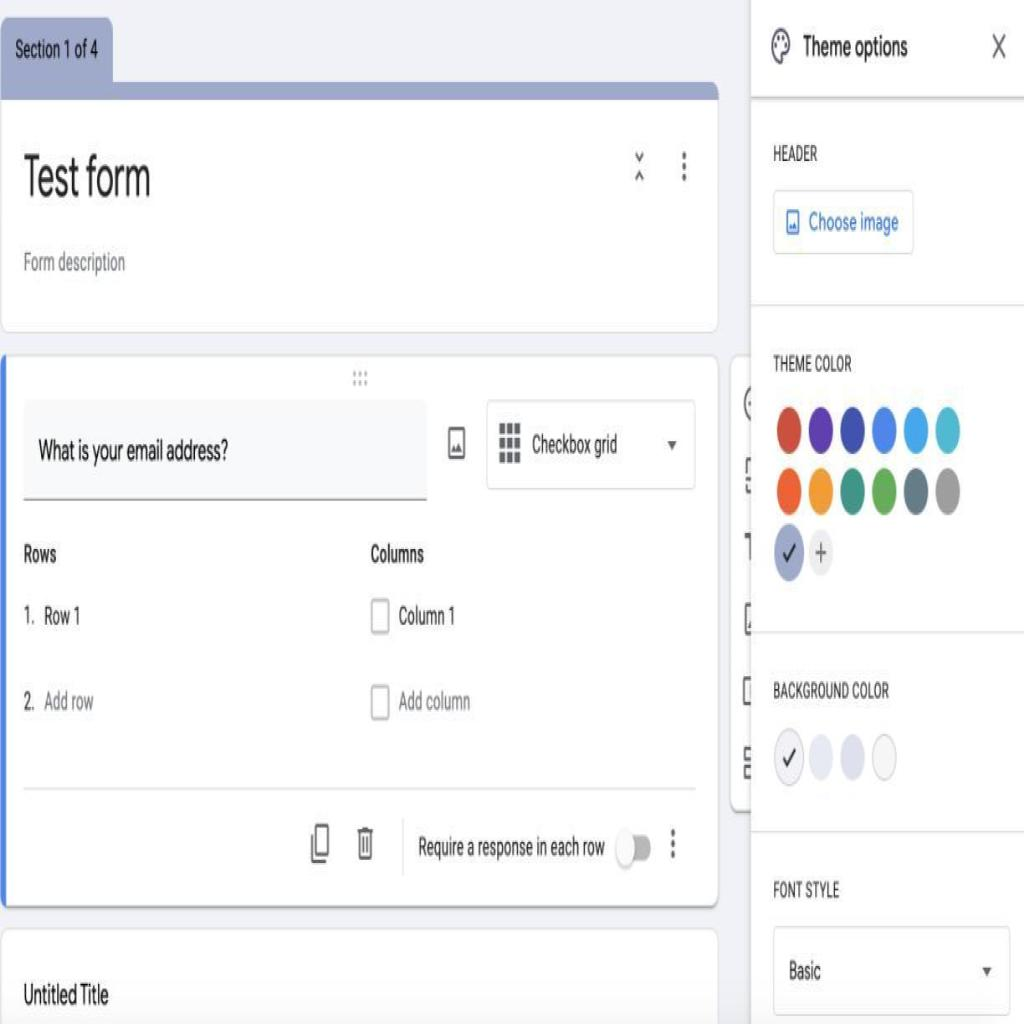button: (774, 184, 918, 254)
checkbox: (370, 681, 390, 721), (370, 599, 390, 633)
dropdown: (774, 928, 1010, 1010), (488, 403, 694, 491)
icon: (305, 814, 335, 872), (443, 420, 470, 470), (769, 24, 794, 69), (354, 823, 377, 871), (675, 143, 693, 190), (664, 822, 683, 864), (632, 147, 648, 185)
input: (26, 396, 426, 499)
label: (21, 145, 153, 217), (416, 828, 608, 871), (770, 666, 904, 716), (771, 871, 860, 918), (800, 27, 913, 63), (770, 340, 856, 376), (368, 531, 429, 578), (14, 531, 70, 575), (400, 597, 461, 636), (43, 679, 97, 723), (770, 135, 825, 177), (40, 594, 87, 641)
switch: (612, 820, 654, 874)
